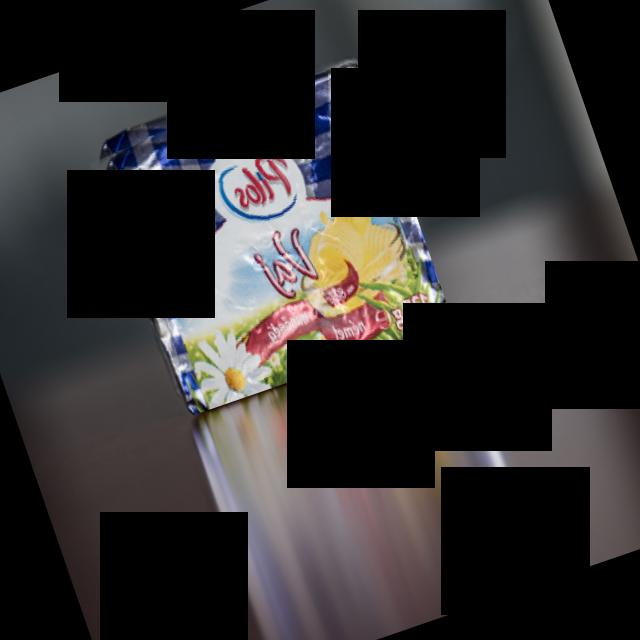butter: (83, 49, 454, 420)
